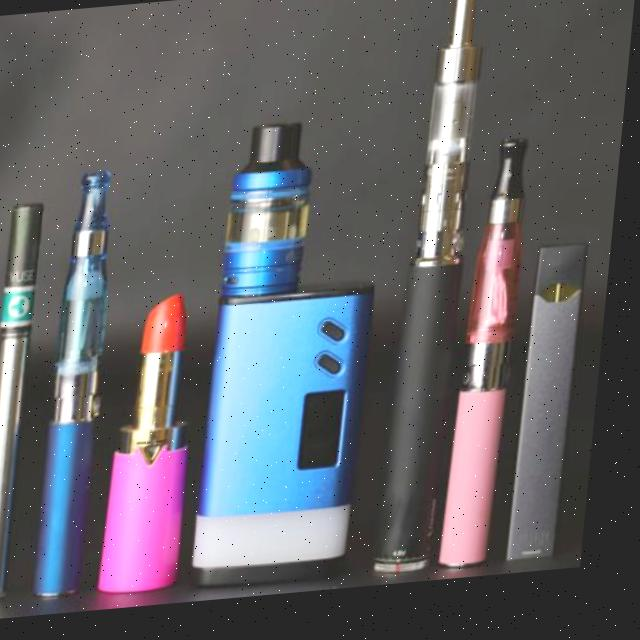vape: (200, 119, 396, 594), (380, 0, 488, 583), (38, 165, 128, 606), (460, 136, 534, 582), (514, 252, 597, 575), (0, 200, 50, 608)
